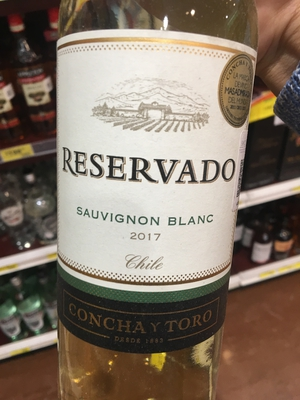reservado sauvignon blanc: (55, 4, 263, 394)
